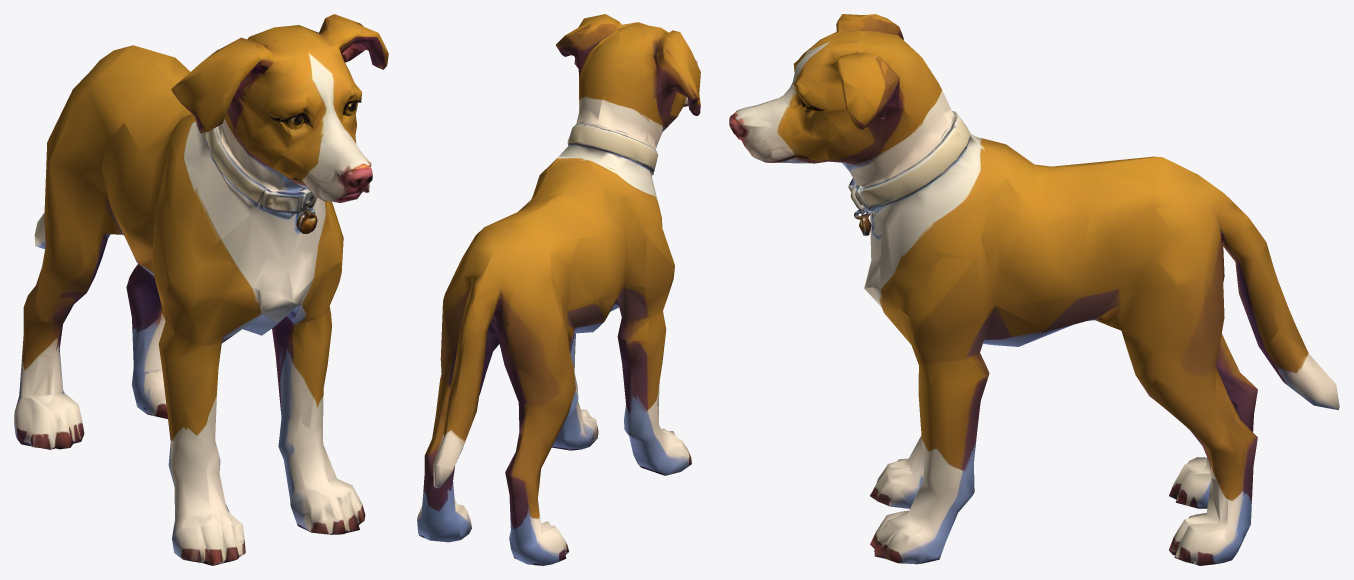
File: remy-roo.glb
3 renders of one model, left to right at view 1: azimuth 30°, elevation 25°; view 2: azimuth 150°, elevation 25°; view 3: azimuth 270°, elevation 25°, orthographic. The views are drawn at different scales.
Visible parts, largest first — view 1: node_0; view 2: node_0; view 3: node_0.
Boxes of the visible parts, box(x1,y1,x2,y2) form: node_0: box(14, 14, 388, 565); node_0: box(417, 14, 700, 565); node_0: box(729, 14, 1339, 565).
Bounding box in the file's own units: 0.361 × 0.9183 × 1.04.
Materials: 1 (1 with a texture image).
